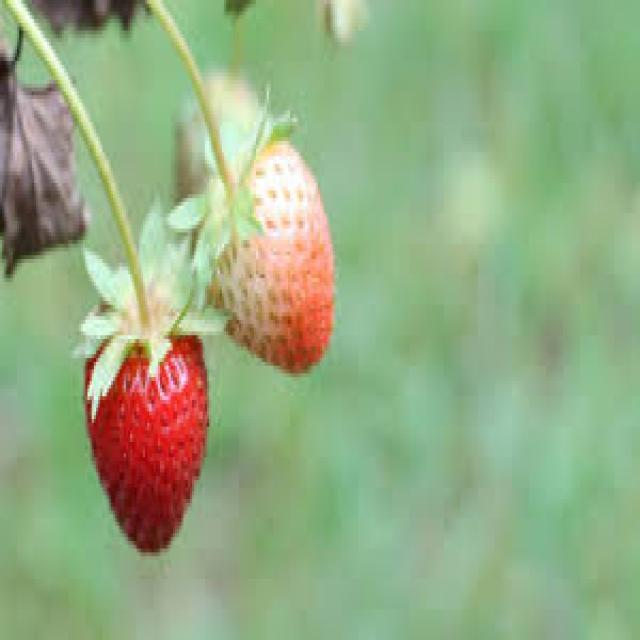strawberry: (85, 303, 208, 550), (207, 140, 335, 367)
